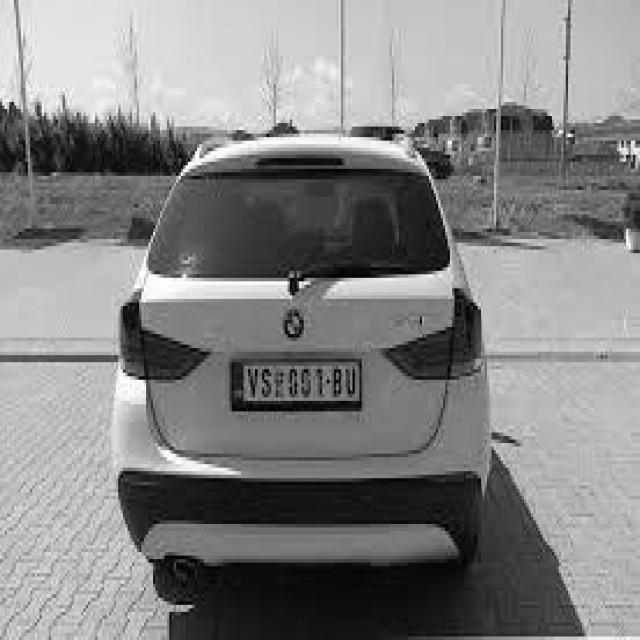car: (118, 120, 490, 598)
license-plate: (230, 358, 362, 418)
